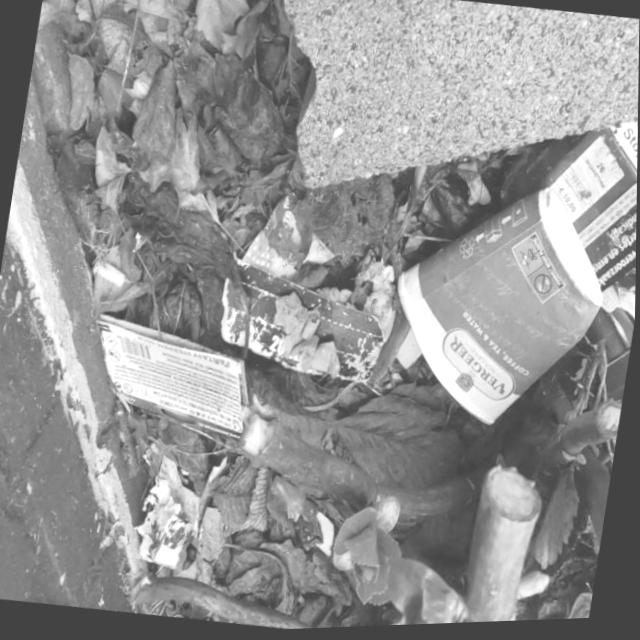Cup: (378, 169, 620, 447)
Paper: (510, 110, 638, 433), (128, 450, 210, 576)
Plastic: (239, 183, 346, 288)
